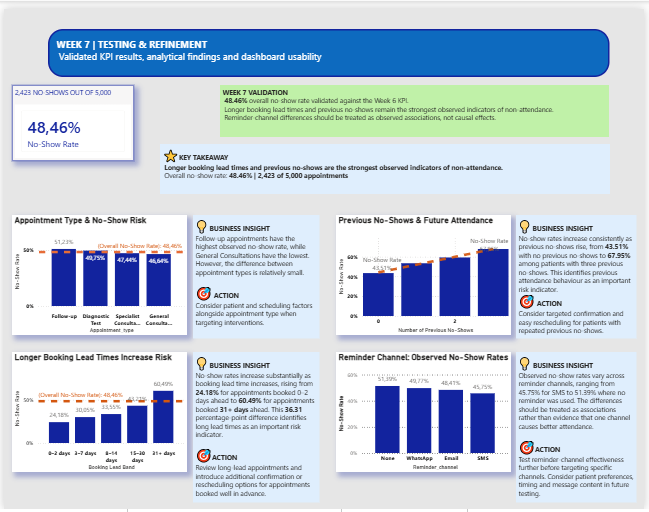

This screenshot's page, from the dashboard's own definition file:
{"tool":"powerbi","page":{"name":"Week 7 Testing & Refinement","canvas":[1280,1000],"ordinal":3},"visuals":[{"type":"clusteredColumnChart","title":"Longer Booking Lead Times Increase Risk","fields":{"Category":["HealthConnect_Appointment_Data.Booking Lead Band"],"Y":["HealthConnect_Appointment_Data.No-Show Rate"]},"box":[16,686,350,240],"z":0},{"type":"clusteredColumnChart","title":"Appointment Type & No-Show Risk","fields":{"Category":["HealthConnect_Appointment_Data.Appointment_type"],"Y":["HealthConnect_Appointment_Data.No-Show Rate"]},"box":[16,412,350,240],"z":1000},{"type":"clusteredColumnChart","title":"Reminder Channel: Observed No-Show Rates","fields":{"Category":["HealthConnect_Appointment_Data.Reminder_channel"],"Y":["HealthConnect_Appointment_Data.No-Show Rate"]},"box":[664,686,350,240],"z":2000},{"type":"clusteredColumnChart","title":"Previous No-Shows & Future Attendance","fields":{"Category":["HealthConnect_Appointment_Data.Previous_no_shows"],"Y":["HealthConnect_Appointment_Data.No-Show Rate"]},"box":[664,412,350,240],"z":3000},{"type":"textbox","box":[88.6,40,1122.9,95.7],"z":4000},{"type":"cardVisual","fields":{"Data":["HealthConnect_Appointment_Data.No-Show Rate"]},"box":[16,152,244,152],"z":5000},{"type":"textbox","box":[377.1,411.4,252.9,247.1],"z":6000},{"type":"textbox","box":[1024.3,411.4,241.4,247.1],"z":7000},{"type":"textbox","box":[377.1,685.7,252.9,301.4],"z":8000},{"type":"textbox","box":[1024.3,685.7,241.4,301.4],"z":9000},{"type":"textbox","box":[312,270,900,100],"z":10000},{"type":"textbox","box":[432,152,778,104],"z":11000}]}

Visuals, with their boxes in screenshot pixels (x1, y1, x2, y2), scaled from the page's 1280x1000 canvas onto the 649x512 screenshot:
"Longer Booking Lead Times Increase Risk" clusteredColumnChart: [8, 351, 186, 474]
"Appointment Type & No-Show Risk" clusteredColumnChart: [8, 211, 186, 334]
"Reminder Channel: Observed No-Show Rates" clusteredColumnChart: [337, 351, 514, 474]
"Previous No-Shows & Future Attendance" clusteredColumnChart: [337, 211, 514, 334]
textbox: [45, 20, 614, 69]
cardVisual - HealthConnect_Appointment_Data.No-Show Rate: [8, 78, 132, 156]
textbox: [191, 211, 319, 337]
textbox: [519, 211, 642, 337]
textbox: [191, 351, 319, 505]
textbox: [519, 351, 642, 505]
textbox: [158, 138, 615, 189]
textbox: [219, 78, 614, 131]
